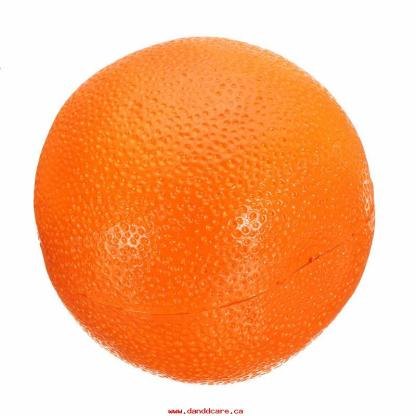orange: (39, 32, 369, 387)
